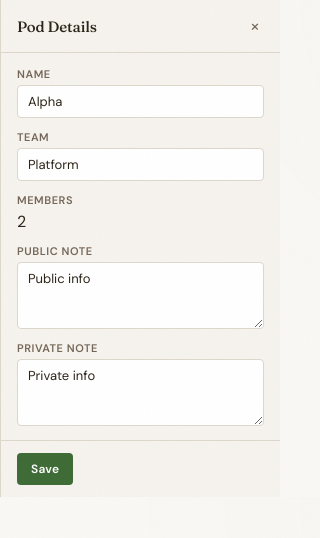
Scenario: PodSidebar — branch coverage › non-Error rejection › shows Error.message when updatePod rejects with an Error
Replace the text in the field showing "Alpha" below "Name" with "Renamed" at (140, 102), box x1=17 y1=85 x2=264 y2=118
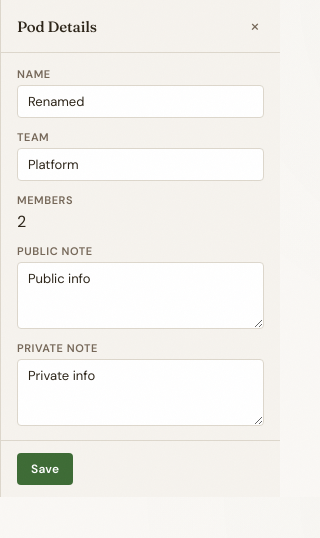
Click the button "Save" at (45, 469), box x1=17 y1=453 x2=73 y2=485
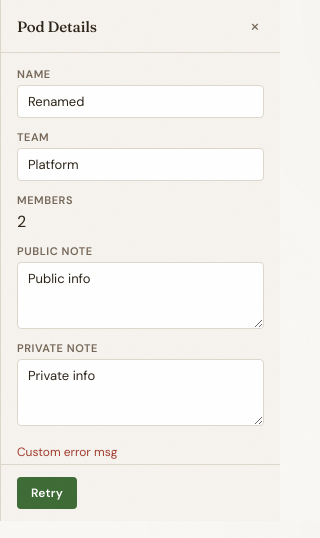
Result: the text "Custom error msg" is shown at x1=17 y1=444 x2=117 y2=460
